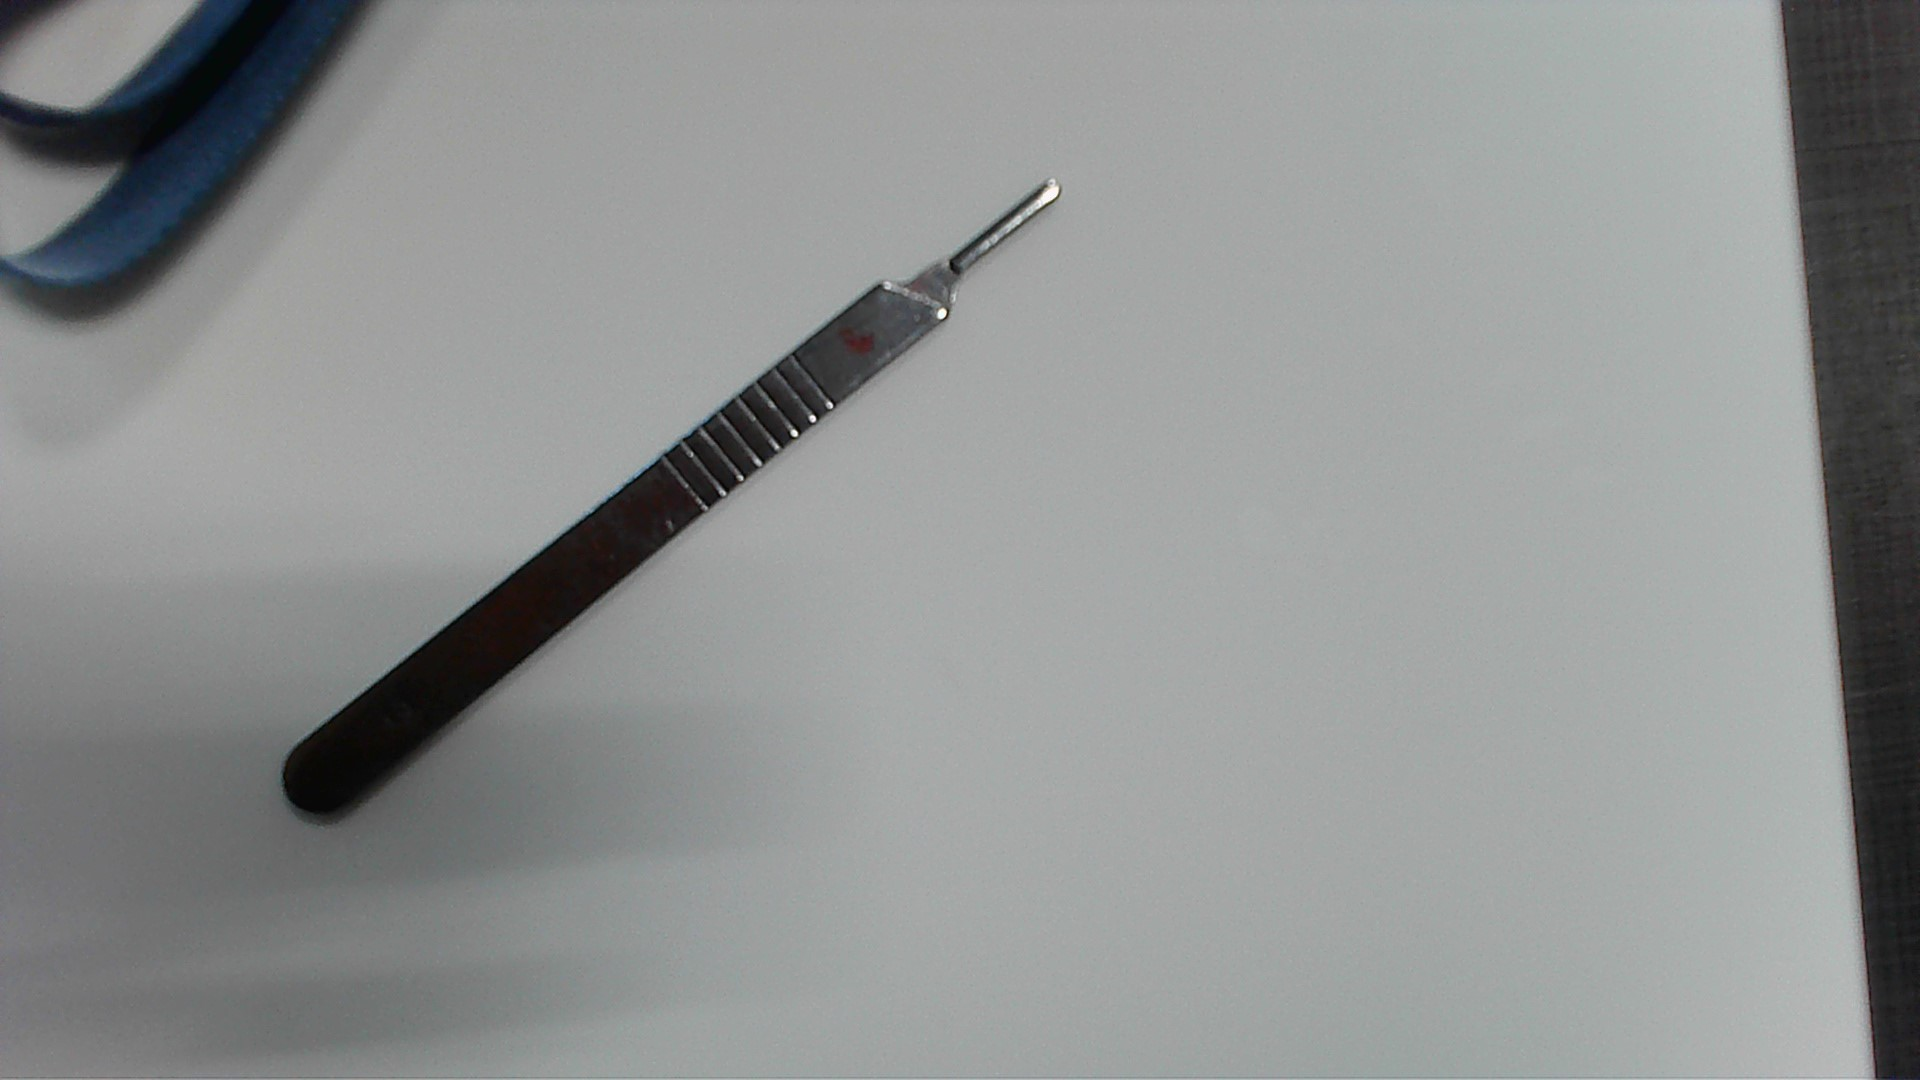Stain: (844, 324, 887, 361)
